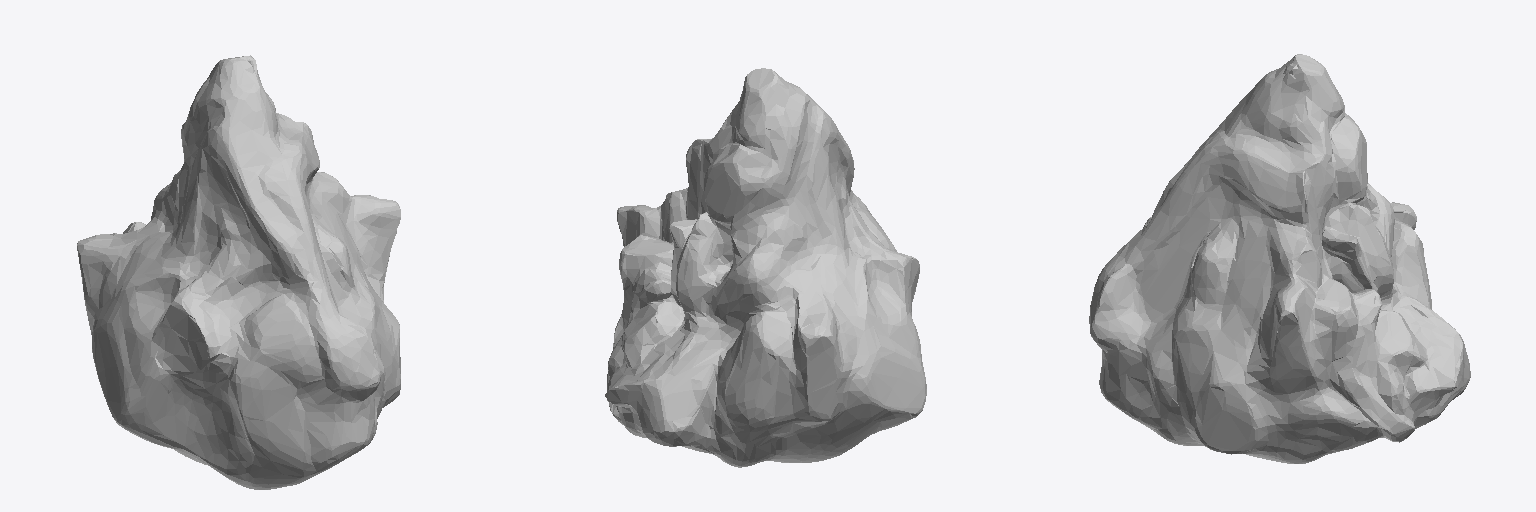
The model's file is Rock2.obj.
3 renders of one model, left to right at view 1: azimuth 30°, elevation 25°; view 2: azimuth 150°, elevation 25°; view 3: azimuth 270°, elevation 25°, orthographic.
Visible parts, largest first — view 1: Rock2:Mesh; view 2: Rock2:Mesh; view 3: Rock2:Mesh.
Part boxes in pixels (left/top/right/bottom): Rock2:Mesh: left=77, top=55, right=400, bottom=489; Rock2:Mesh: left=605, top=68, right=926, bottom=467; Rock2:Mesh: left=1089, top=54, right=1470, bottom=463.
Bounding box in the file's own units: 2.27 × 2.89 × 2.56.